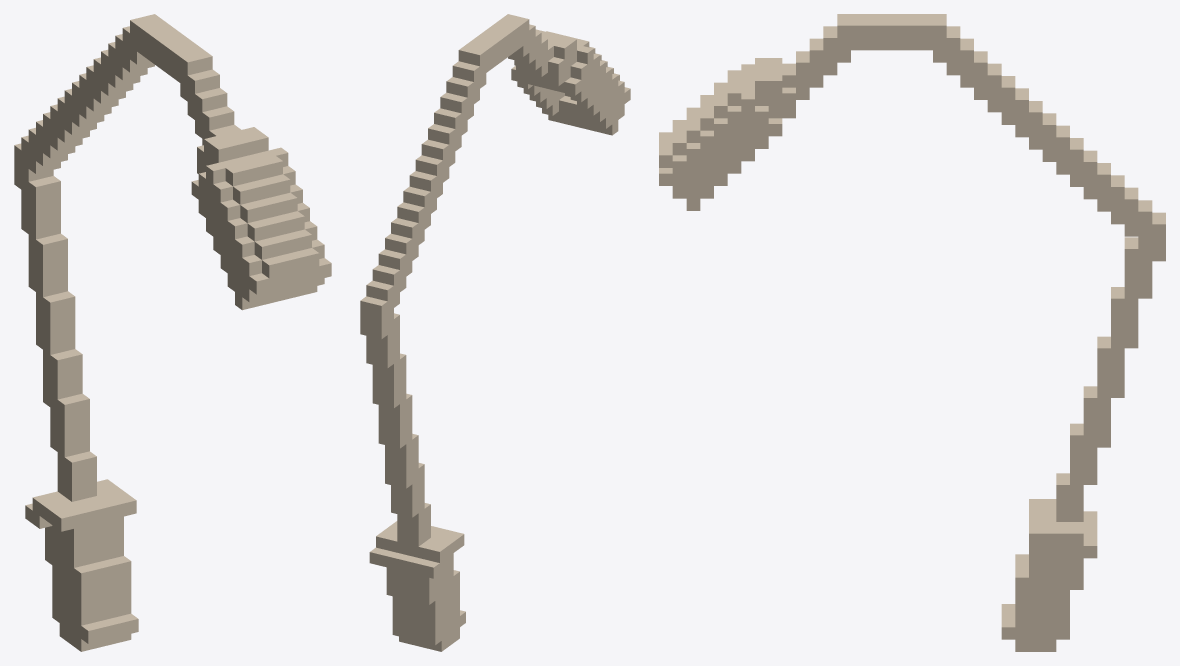
File: Background_A_streetlamp_02.FBX
3 renders of one model, left to right at view 1: azimuth 30°, elevation 25°; view 2: azimuth 150°, elevation 25°; view 3: azimuth 270°, elevation 25°, orthographic. The views are drawn at different scales.
Visible parts, largest first — view 1: Load_A-18; view 2: Load_A-18; view 3: Load_A-18.
Boxes of the visible parts, bbox=[...] form: Load_A-18: bbox=[14, 14, 331, 651]; Load_A-18: bbox=[360, 14, 630, 651]; Load_A-18: bbox=[659, 14, 1165, 651].
Size of the model in its own units: 0.6 by 5 by 3.7.
Materials: 1 (1 with a texture image).
